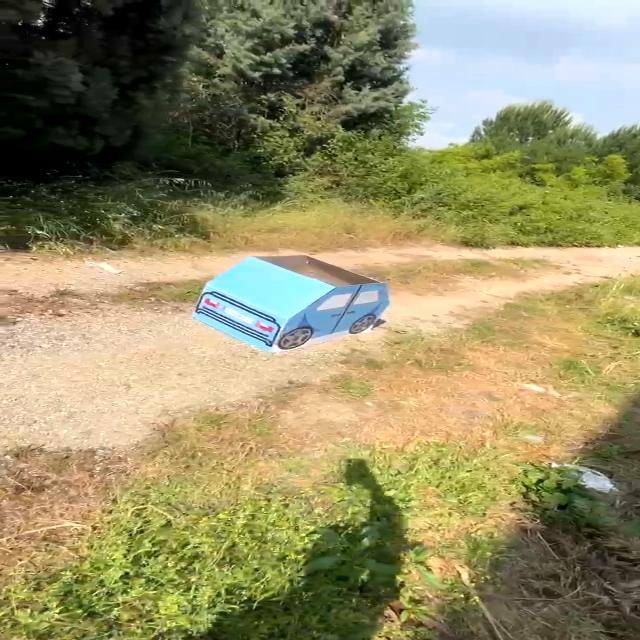blue_car: (183, 242, 400, 365)
